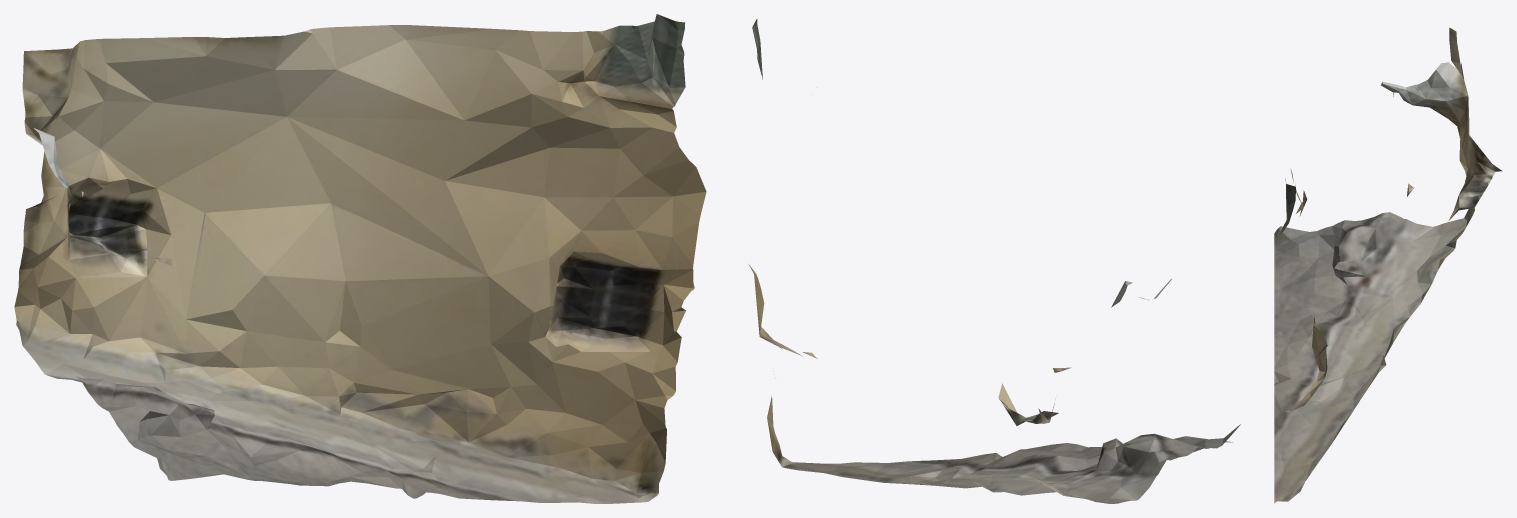
3 views of the same model, side by side, from view 1: azimuth 30°, elevation 25°; view 2: azimuth 150°, elevation 25°; view 3: azimuth 270°, elevation 25° (orthographic). The views are drawn at different scales.
Bounding box in the file's own units: 5.13 × 4.22 × 2.68.
Materials: 2 (2 with a texture image).
